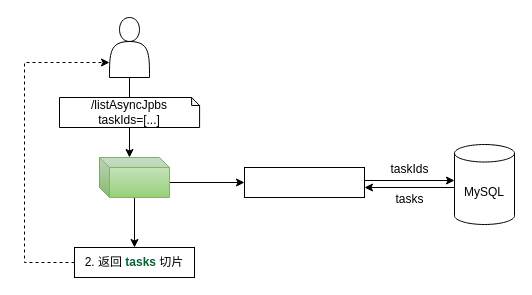
Some shapes in this 532 by 295 pixel diagram are drawn without their labels. Each missing label, with the centre of its shape:
1. 查询 MySQL: (x=304, y=182)
gin: (x=134, y=177)
